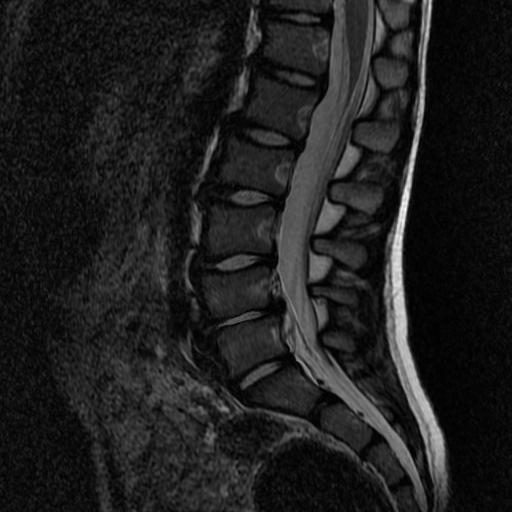D1: (223, 111, 305, 155)
